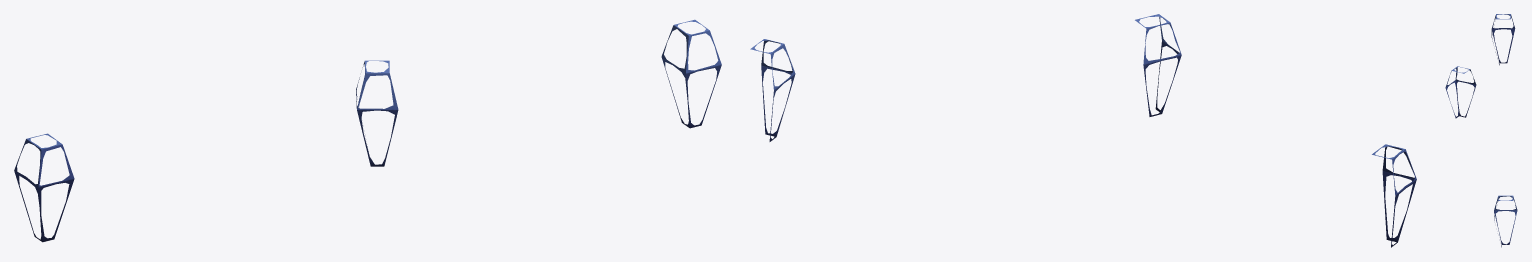
The model's file is Crystal_02.FBX.
The picture shows the model from 3 angles, left to right: view 1: azimuth 30°, elevation 25°; view 2: azimuth 150°, elevation 25°; view 3: azimuth 270°, elevation 25°; orthographic projection. The views are drawn at different scales.
Visible parts, largest first — view 1: Crystal_02; view 2: Crystal_02; view 3: Crystal_02.
Boxes of the visible parts, bbox=[...] form: Crystal_02: bbox=[14, 19, 721, 242]; Crystal_02: bbox=[750, 14, 1416, 247]; Crystal_02: bbox=[1445, 14, 1517, 247].
Bounding box in the file's own units: 18.31 × 4.53 × 3.33.
